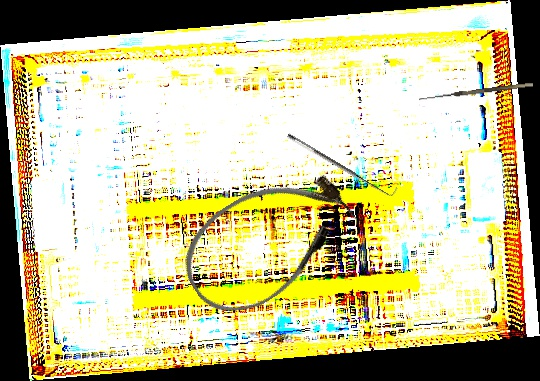Cannula: (166, 151, 369, 331)
Hook Surgical: (285, 125, 400, 202), (418, 82, 534, 107)
